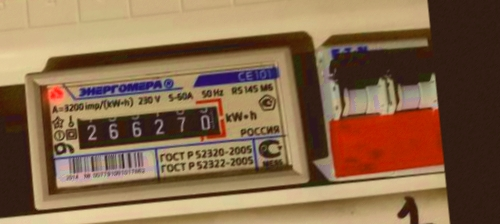0: (199, 111, 212, 129)
2: (84, 121, 99, 140), (153, 115, 166, 134)
6: (107, 119, 121, 139), (130, 118, 144, 137)
7: (176, 113, 189, 132)
screen: (66, 92, 233, 158)
